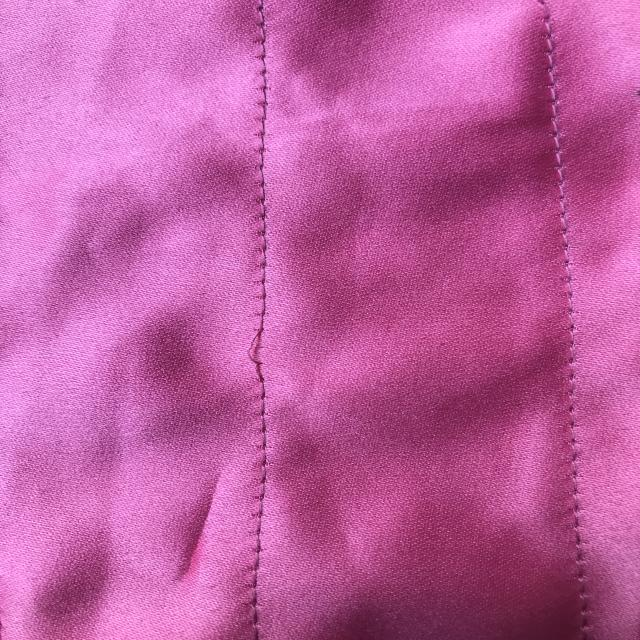skip: (235, 313, 290, 371)
